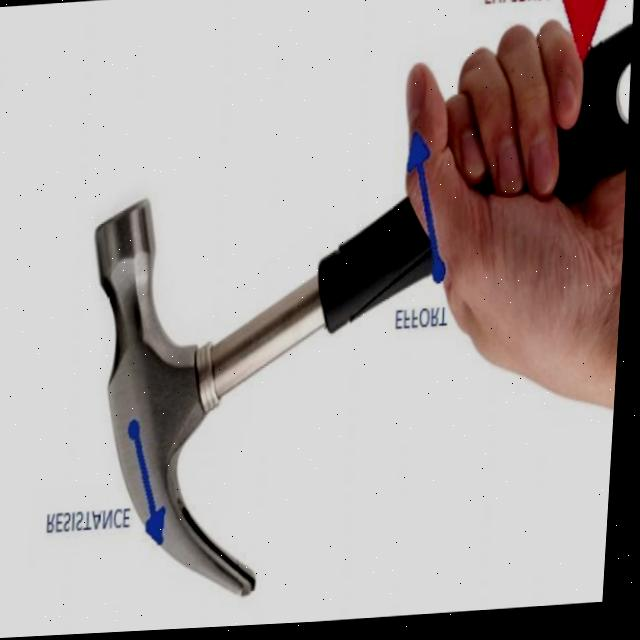hammer: (68, 21, 638, 612)
